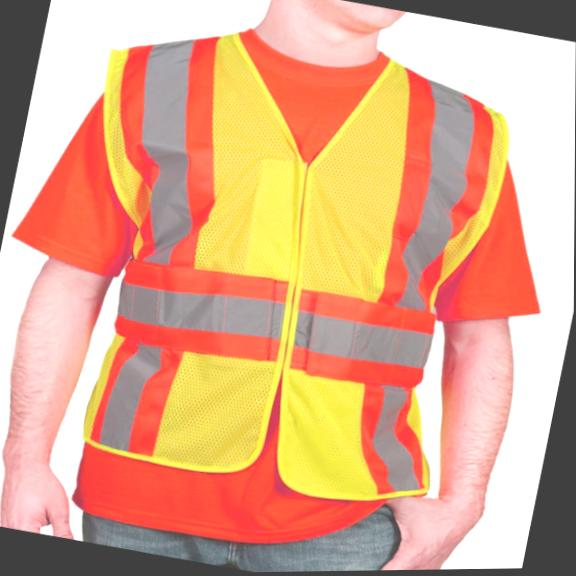safety_vest: (30, 1, 522, 523)
